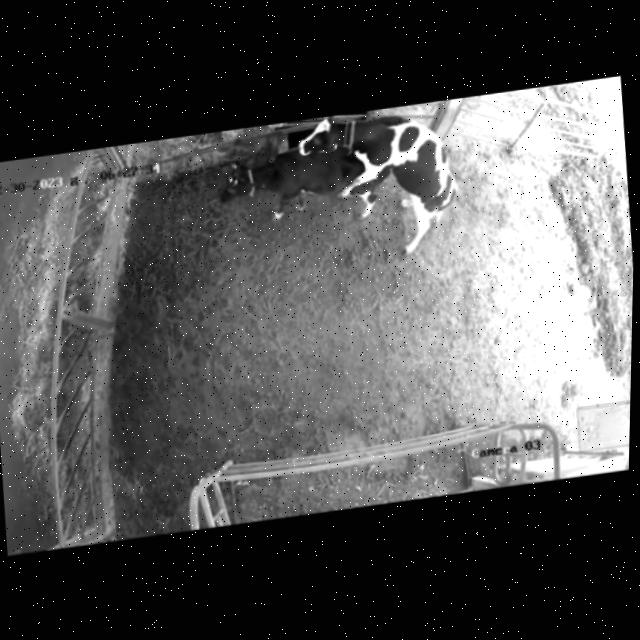ride: (289, 97, 476, 278)
stand: (210, 135, 395, 240)
